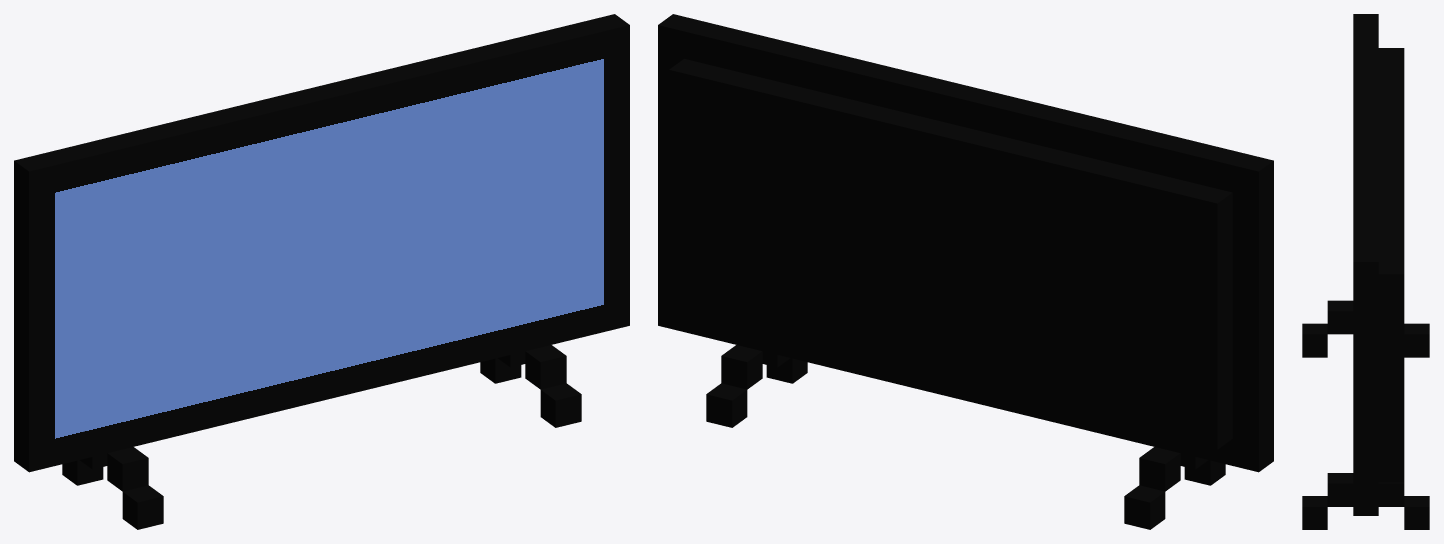
The model's file is TV_standing.dae.
3 renders of one model, left to right at view 1: azimuth 30°, elevation 25°; view 2: azimuth 150°, elevation 25°; view 3: azimuth 270°, elevation 25°, orthographic. The views are drawn at different scales.
Visible parts, largest first — view 1: TV_Standing; view 2: TV_Standing; view 3: TV_Standing.
Part boxes in pixels (box(x1,y1,x2,y2)): TV_Standing: box(14, 14, 629, 529); TV_Standing: box(658, 14, 1273, 529); TV_Standing: box(1302, 14, 1429, 529).
Bounding box in the file's own units: 23 × 13 × 5.
1 material, 1 textured.
